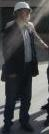boots: (20, 122, 33, 132), (0, 98, 7, 105)
hard-hat: (13, 1, 32, 13)
